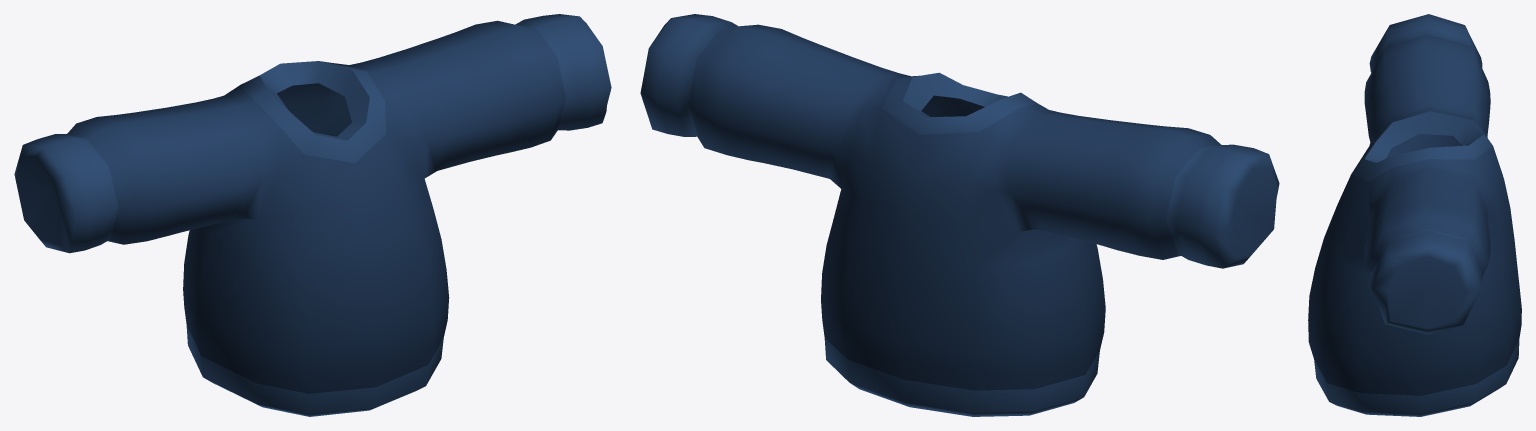
The model's file is Top_16.fbx.
The picture shows the model from 3 angles, left to right: view 1: azimuth 30°, elevation 25°; view 2: azimuth 150°, elevation 25°; view 3: azimuth 270°, elevation 25°; orthographic projection. The views are drawn at different scales.
Visible parts, largest first — view 1: Top_16; view 2: Top_16; view 3: Top_16.
Boxes of the visible parts, <box> form: Top_16: <box>14,14,611,416</box>; Top_16: <box>640,14,1279,416</box>; Top_16: <box>1308,14,1521,416</box>.
Bounding box in the file's own units: 98 × 49.7 × 37.16.
